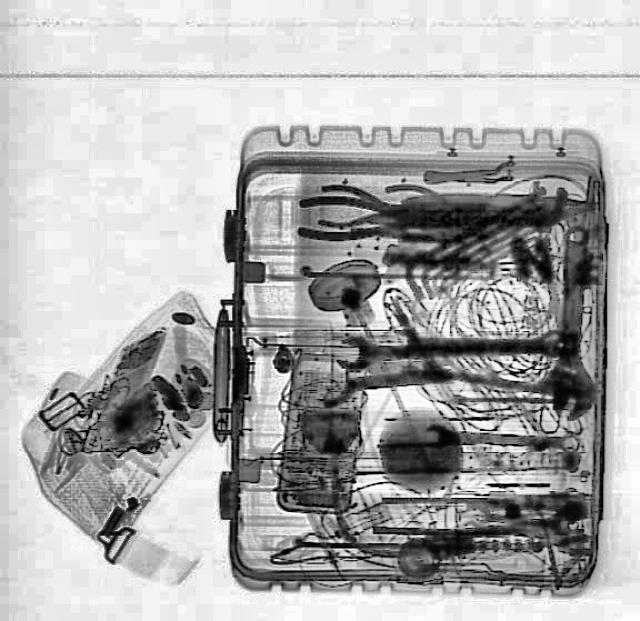Pliers: (296, 192, 428, 242)
Wrench: (333, 324, 564, 372), (543, 224, 599, 420)
